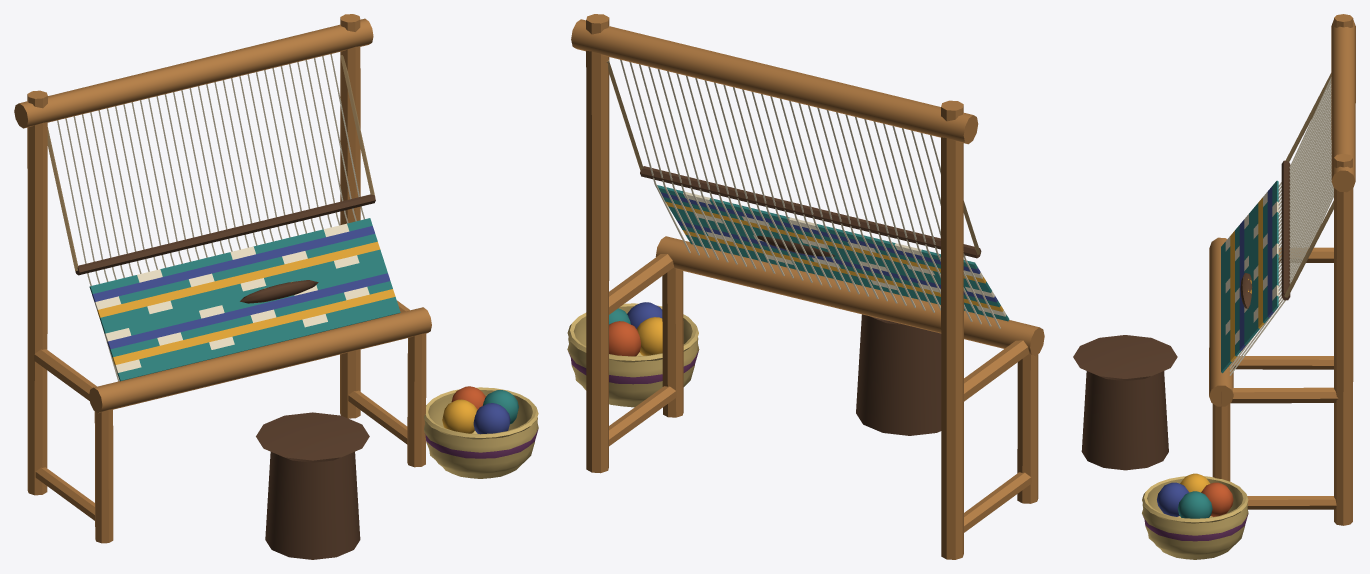
Rendered from deco_loom.fbx.
3 renders of one model, left to right at view 1: azimuth 30°, elevation 25°; view 2: azimuth 150°, elevation 25°; view 3: azimuth 270°, elevation 25°, orthographic. The views are drawn at different scales.
Parts seen in each view (by area): view 1: Loom_Frame, Loom_Cloth, Loom_Stool, Loom_Warp, Loom_YarnBasket, Loom_Heddle, Loom_Shuttle; view 2: Loom_Frame, Loom_Warp, Loom_Cloth, Loom_Stool, Loom_YarnBasket, Loom_Heddle; view 3: Loom_Frame, Loom_Stool, Loom_YarnBasket, Loom_Cloth, Loom_Warp, Loom_Heddle.
Part boxes in pixels (x1,y1,x2,y2): Loom_Frame: (14, 14, 431, 543); Loom_Cloth: (89, 218, 400, 381); Loom_Stool: (256, 412, 369, 559); Loom_Warp: (57, 54, 364, 381); Loom_YarnBasket: (424, 386, 538, 478); Loom_Heddle: (47, 55, 375, 275); Loom_Shuttle: (240, 280, 318, 303); Loom_Frame: (571, 14, 1044, 559); Loom_Warp: (620, 59, 1000, 328); Loom_Cloth: (657, 185, 1009, 321); Loom_Stool: (856, 314, 941, 435); Loom_YarnBasket: (567, 302, 699, 407); Loom_Heddle: (606, 59, 981, 258); Loom_Frame: (1209, 14, 1355, 525); Loom_Stool: (1073, 335, 1177, 470); Loom_YarnBasket: (1142, 473, 1248, 559); Loom_Cloth: (1221, 180, 1278, 373); Loom_Warp: (1229, 77, 1333, 375); Loom_Heddle: (1281, 73, 1333, 300).
Size of the model in its own units: 261 by 230 by 162.
